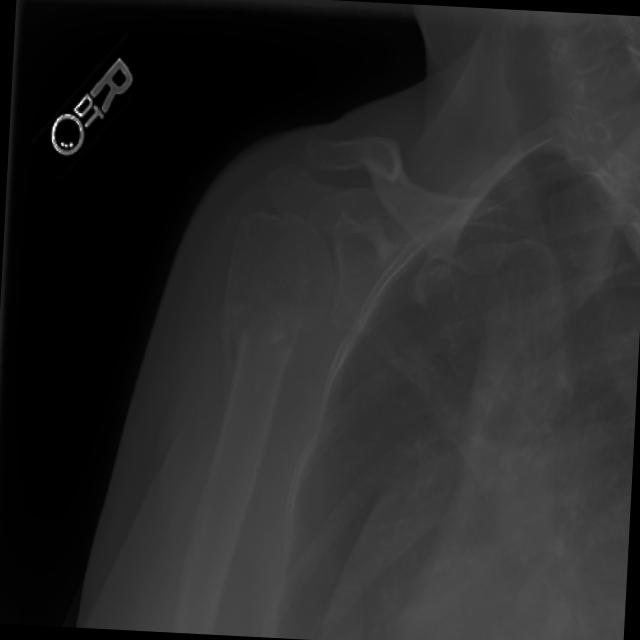shoulder fracture: (197, 287, 293, 395)
